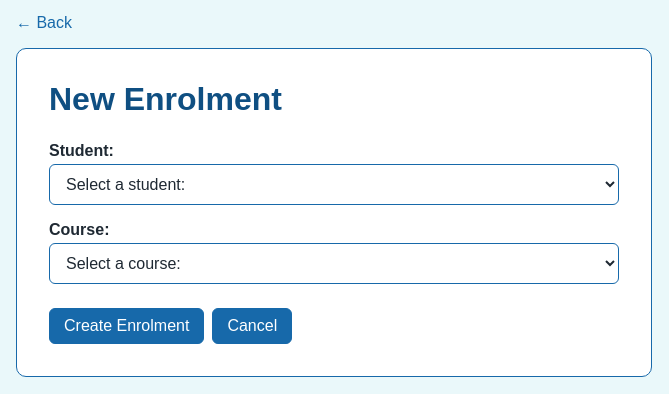
Test: NewEnrolment › successfully creates a new enrolment
This screenshot has width=669, height=394.
Select "studentone" in the dropdown labelled "Student:": (334, 184) [49,164,619,205]
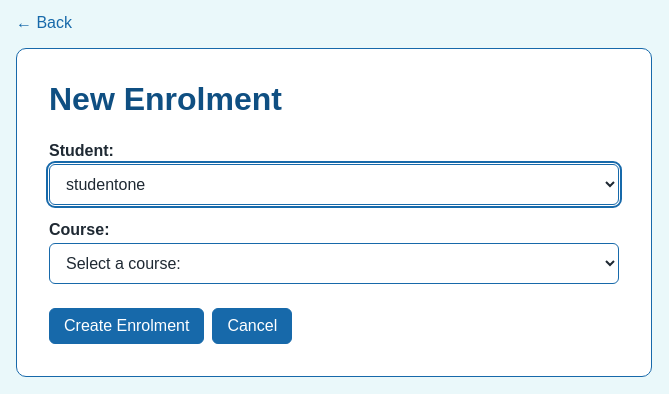
Select "Mathematics" in the dropdown labelled "Course:": (334, 264) [49,243,619,284]
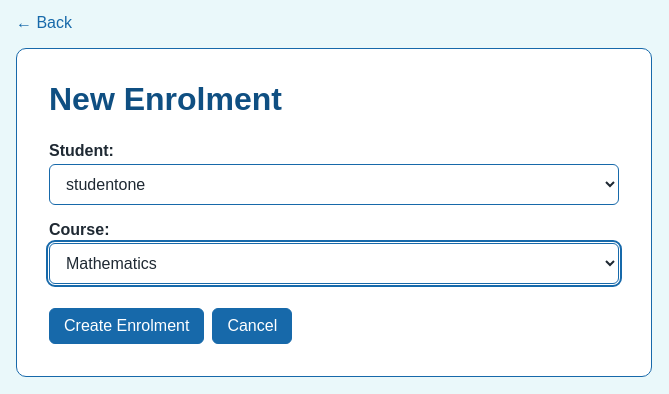
Click the button "Create Enrolment": (127, 326) [49,308,204,344]
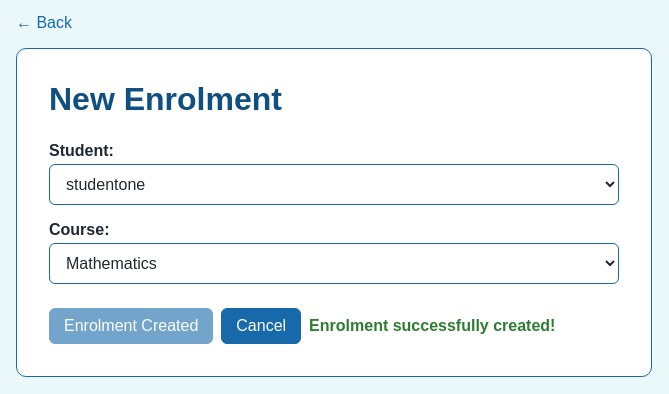
Now the text "Enrolment successfully created!" is shown, box [309,317,555,335]
